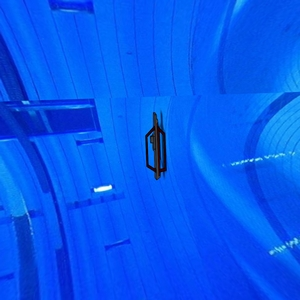submarine: (138, 109, 175, 187)
